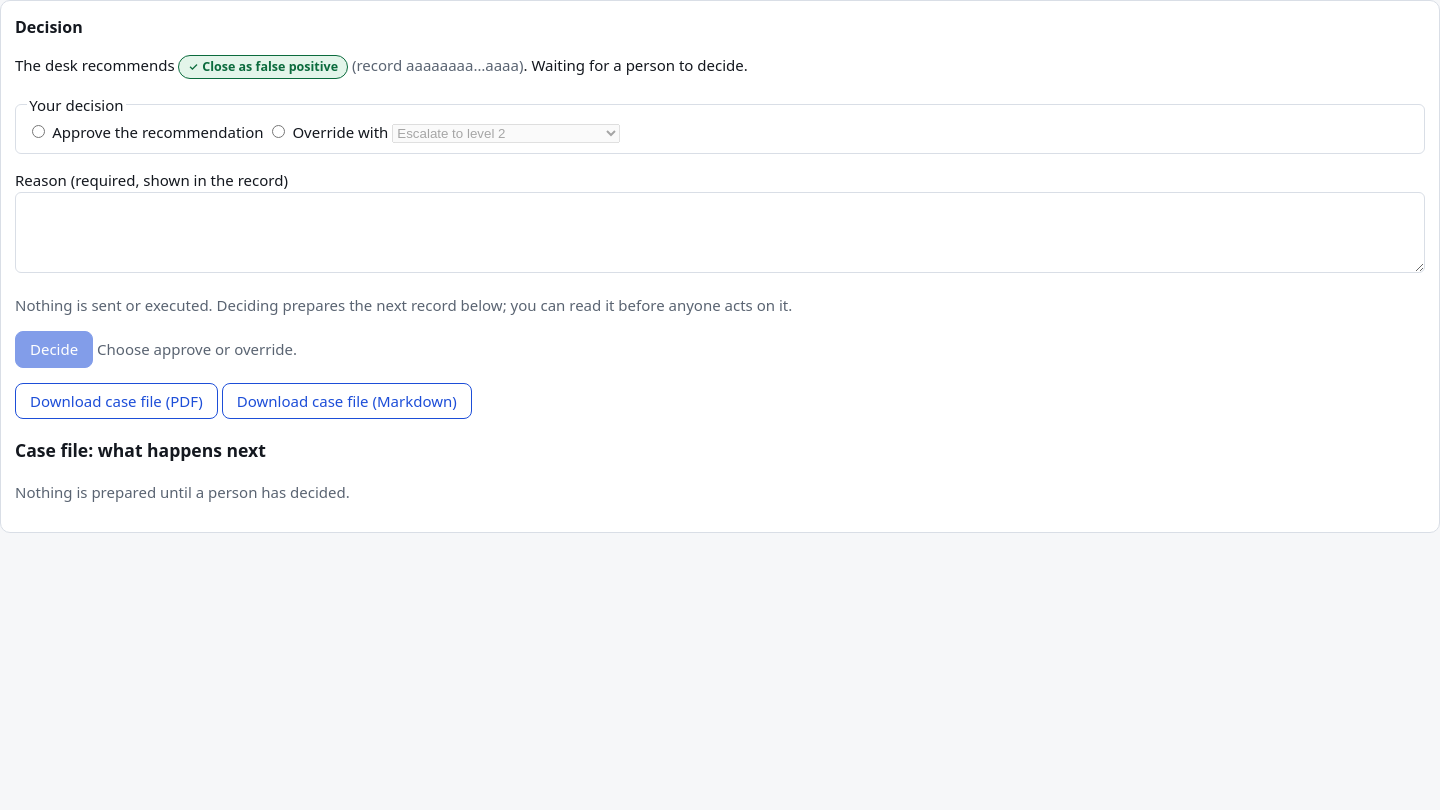
DecisionPanel › shows the API's refusal as an alert and keeps the form
The width and height of the screenshot is (1440, 810).
Type "A long enough reason to submit." into the text box at (720, 232), box [15,192,1425,273]
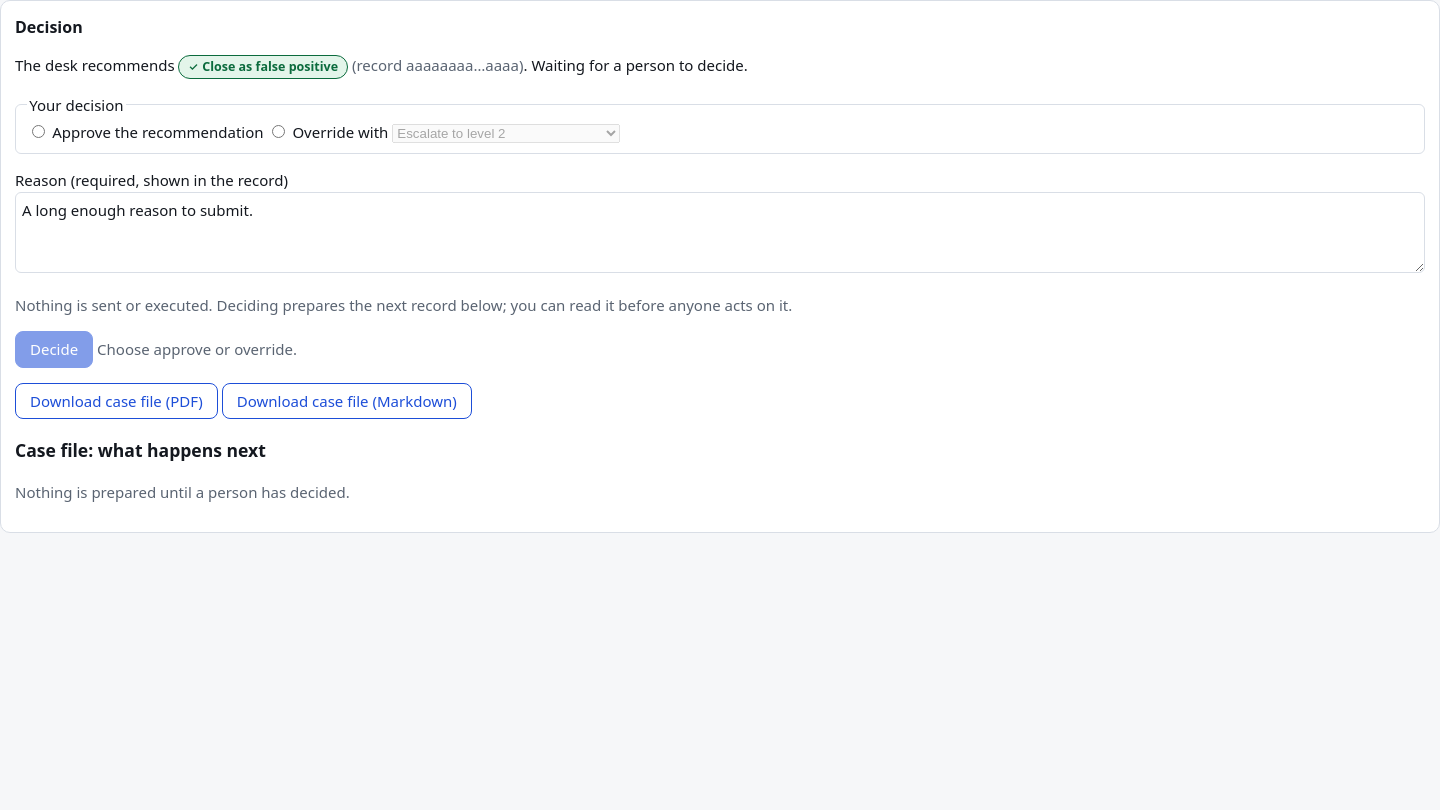
Click the radio button labelled "Approve the recommendation" at (39, 132), box [32,125,45,138]
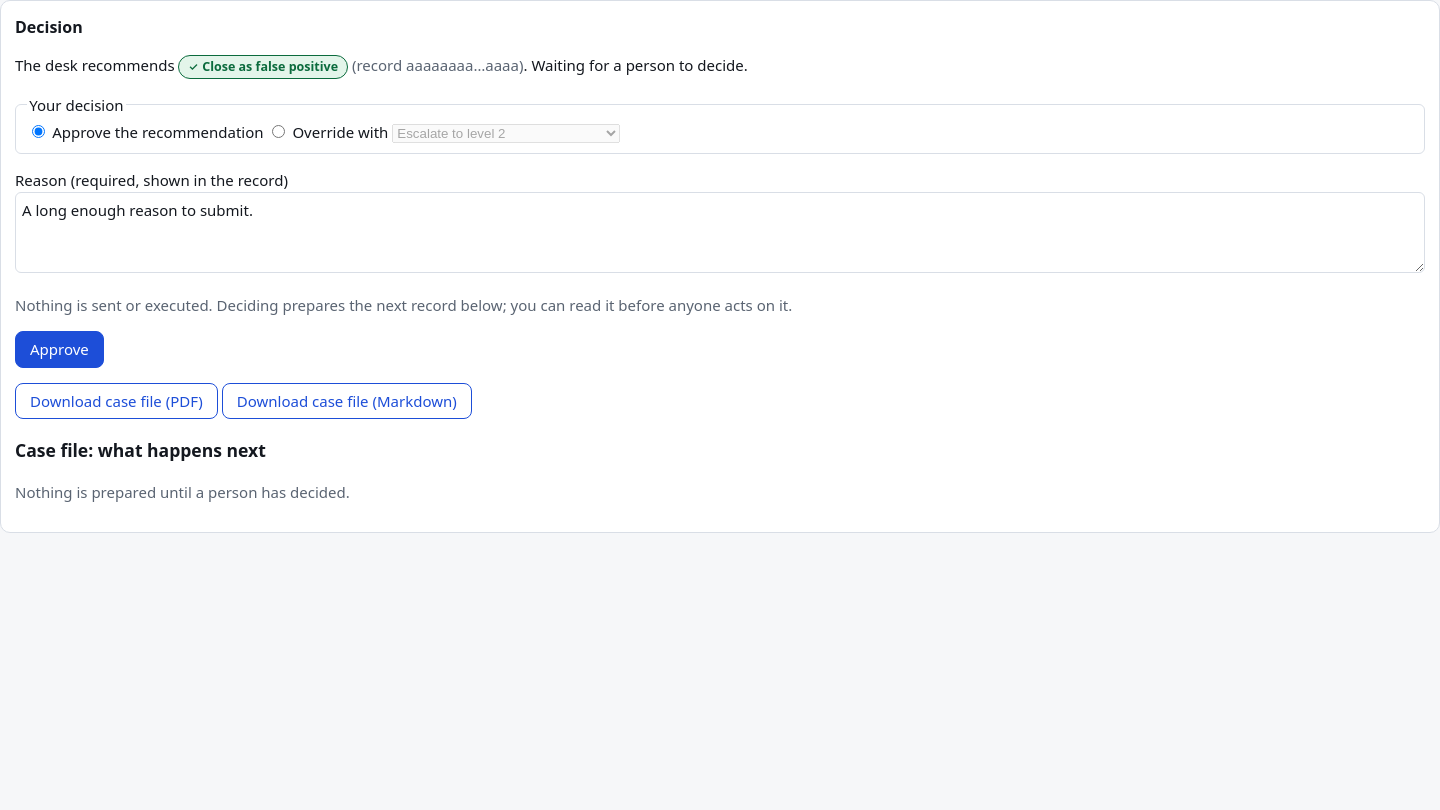
Click the button "Approve" at (59, 349), box [15,331,104,368]
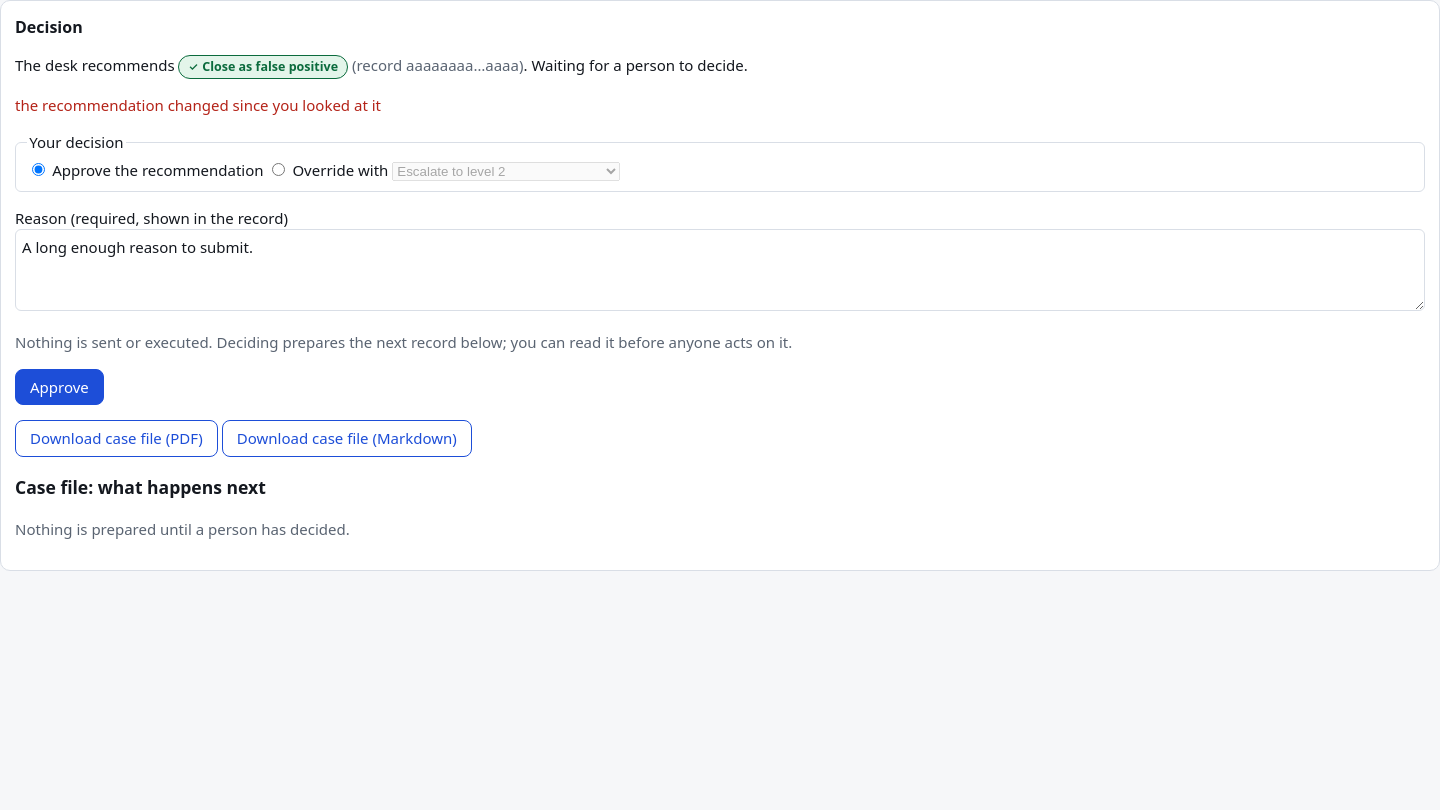
Check: the button "Approve" is shown, box [15,369,104,405]
Check: the message shows "changed since you looked", box [15,94,381,114]
